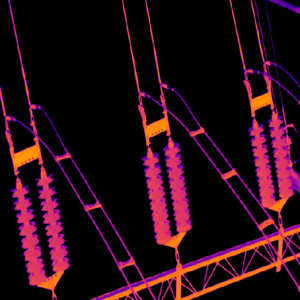insulator: (10, 175, 47, 286), (35, 166, 70, 272), (141, 144, 172, 245), (161, 136, 192, 233), (247, 118, 276, 210), (268, 110, 294, 201)
